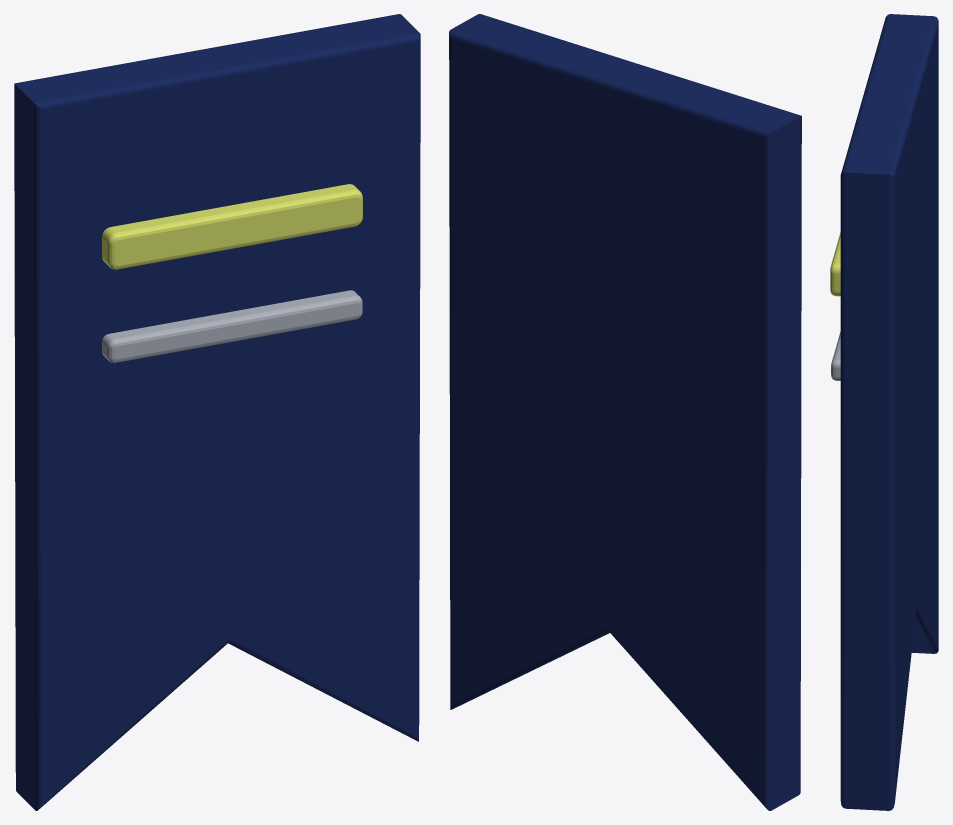
3 views of the same model, side by side, from view 1: azimuth 30°, elevation 25°; view 2: azimuth 150°, elevation 25°; view 3: azimuth 270°, elevation 25° (orthographic). The views are drawn at different scales.
Visible parts, largest first — view 1: notched bookmark, machined plate (×2); view 2: notched bookmark; view 3: notched bookmark, machined plate (×2).
Part boxes in pixels (box(x1,y1,x2,y2)): notched bookmark: box(14, 14, 420, 810); machined plate (×2): box(102, 184, 362, 362); notched bookmark: box(449, 14, 801, 810); notched bookmark: box(840, 14, 938, 810); machined plate (×2): box(830, 232, 840, 380).
Size of the model in its own units: 1.03 by 1.91 by 0.2953.
